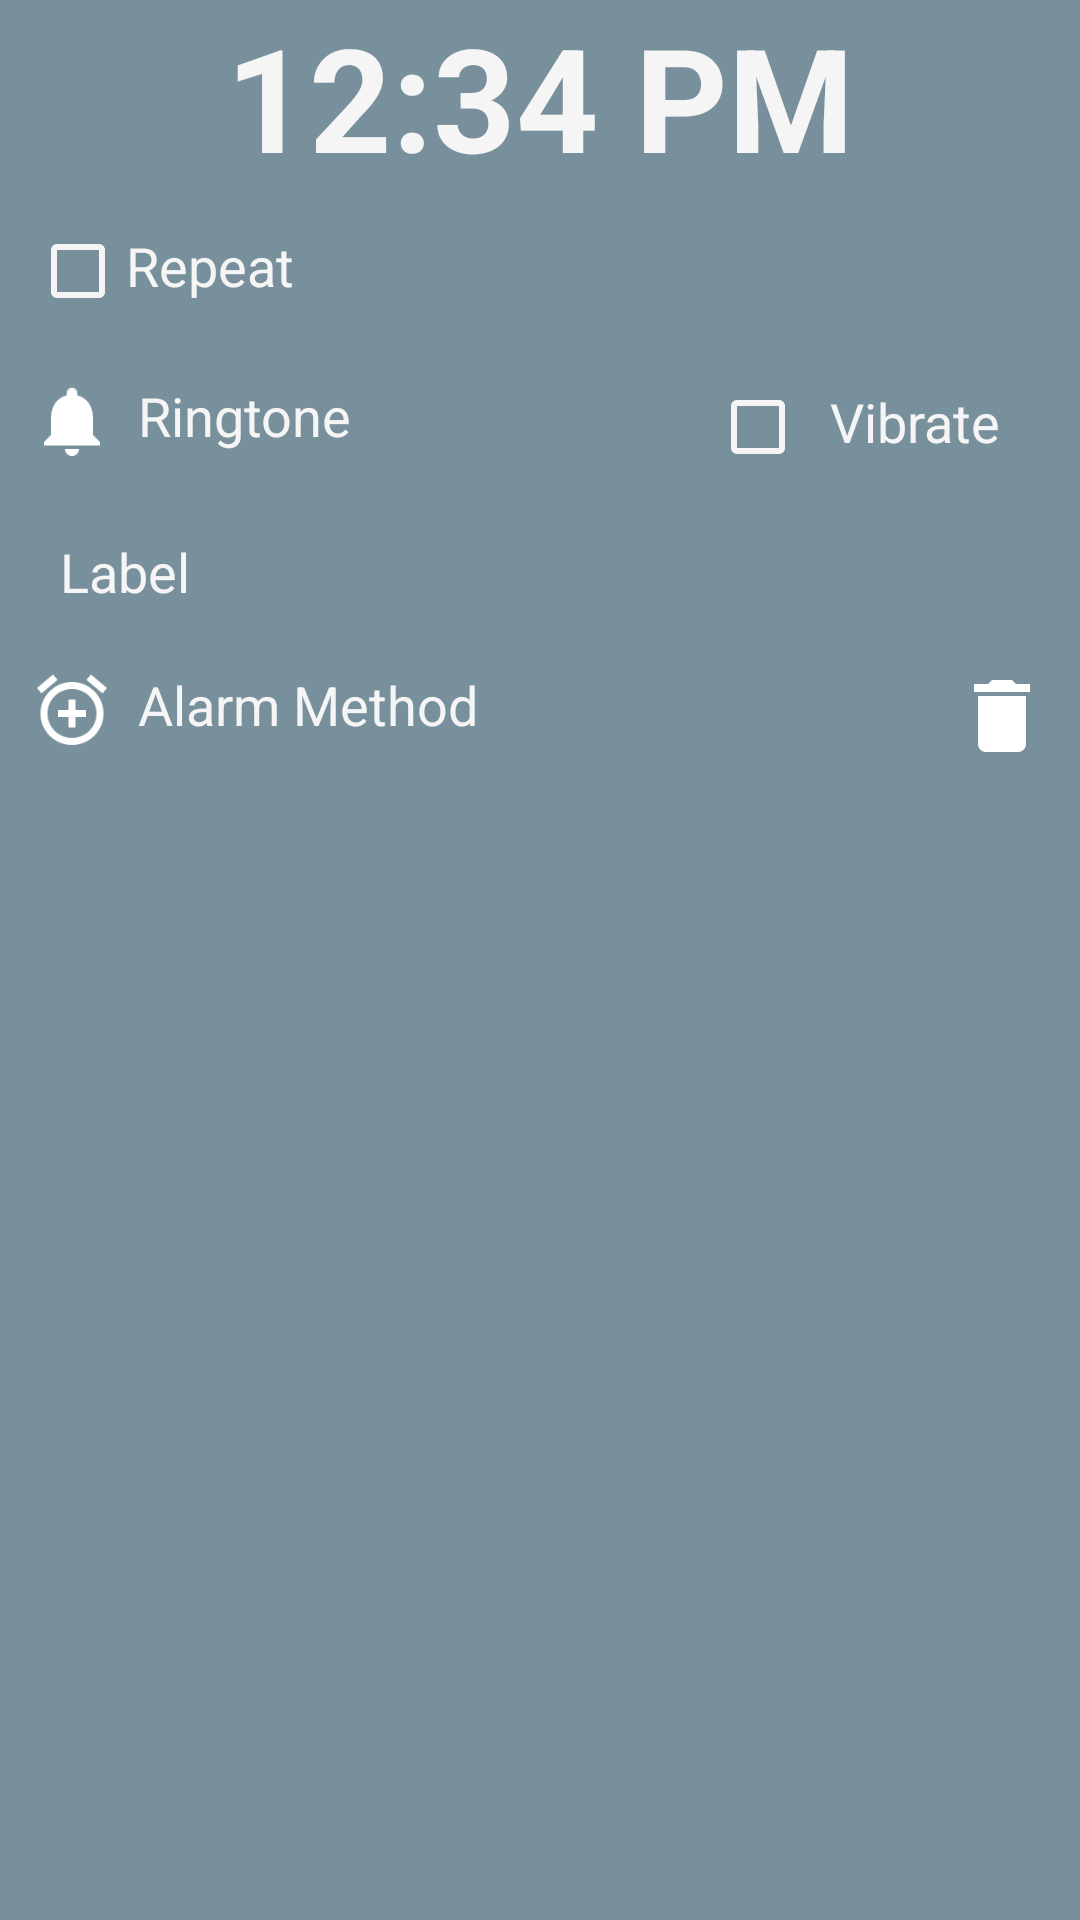

Point at icon controls on the screen. Image size 1080x1920, points as [x,y].
delete: [1002,716]
